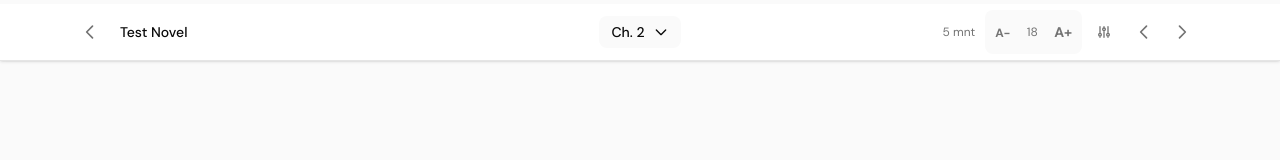
Test: ChapterReaderNav › decreases font size when A- is clicked
What coordinates should you click on to do the following:
click the button "A-"
I would click on:
 (1003, 32)
Its box is [989,14,1016,50].
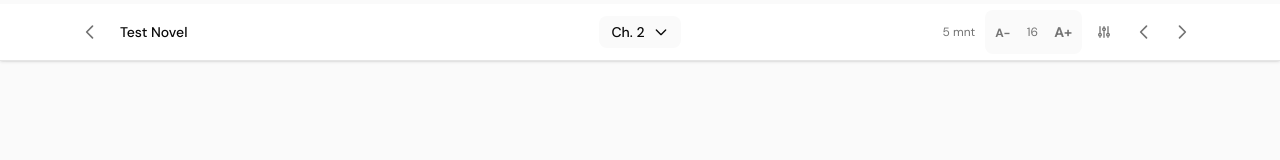
Check: the text "16" is shown, box [1027,24,1038,40]
